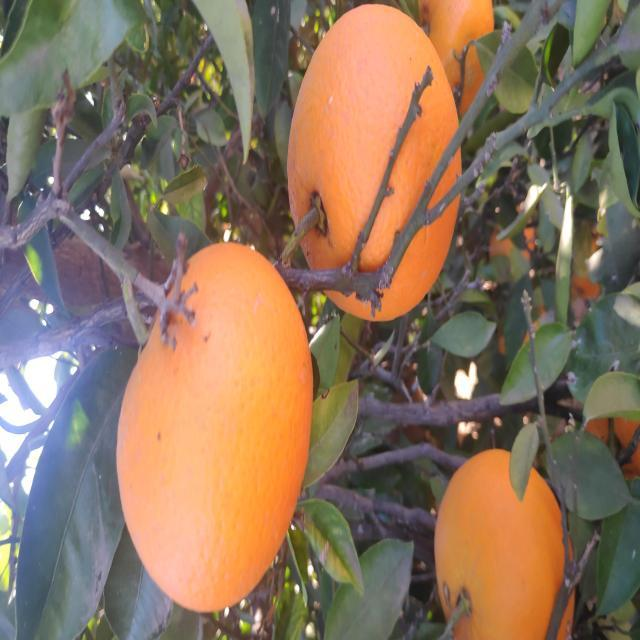Jeruk Sudah Matang: (28, 114, 398, 313), (319, 287, 635, 462), (0, 435, 192, 575), (511, 417, 640, 497)
